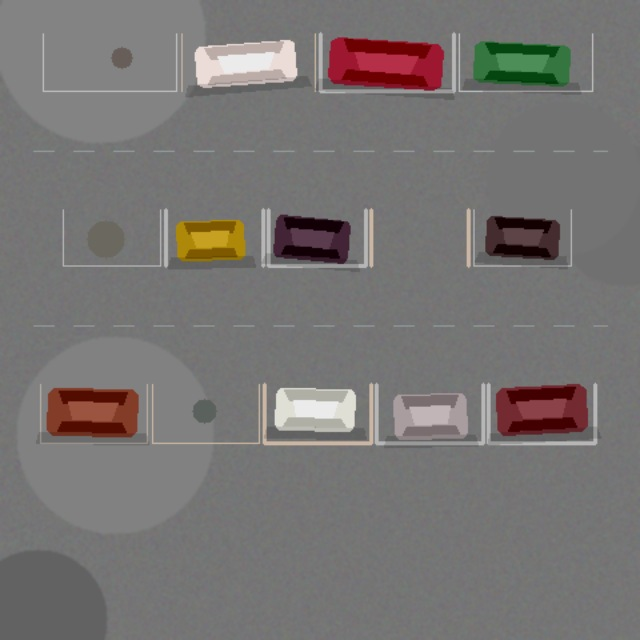space-empty: (43, 33, 176, 91), (152, 384, 259, 443), (63, 209, 160, 265), (371, 209, 468, 265)
space-occupied: (181, 33, 315, 91), (320, 33, 453, 91), (459, 33, 592, 91), (40, 384, 147, 443), (264, 384, 371, 443), (376, 384, 483, 443), (488, 384, 595, 443), (165, 209, 263, 265), (473, 209, 571, 265), (268, 209, 365, 265)
